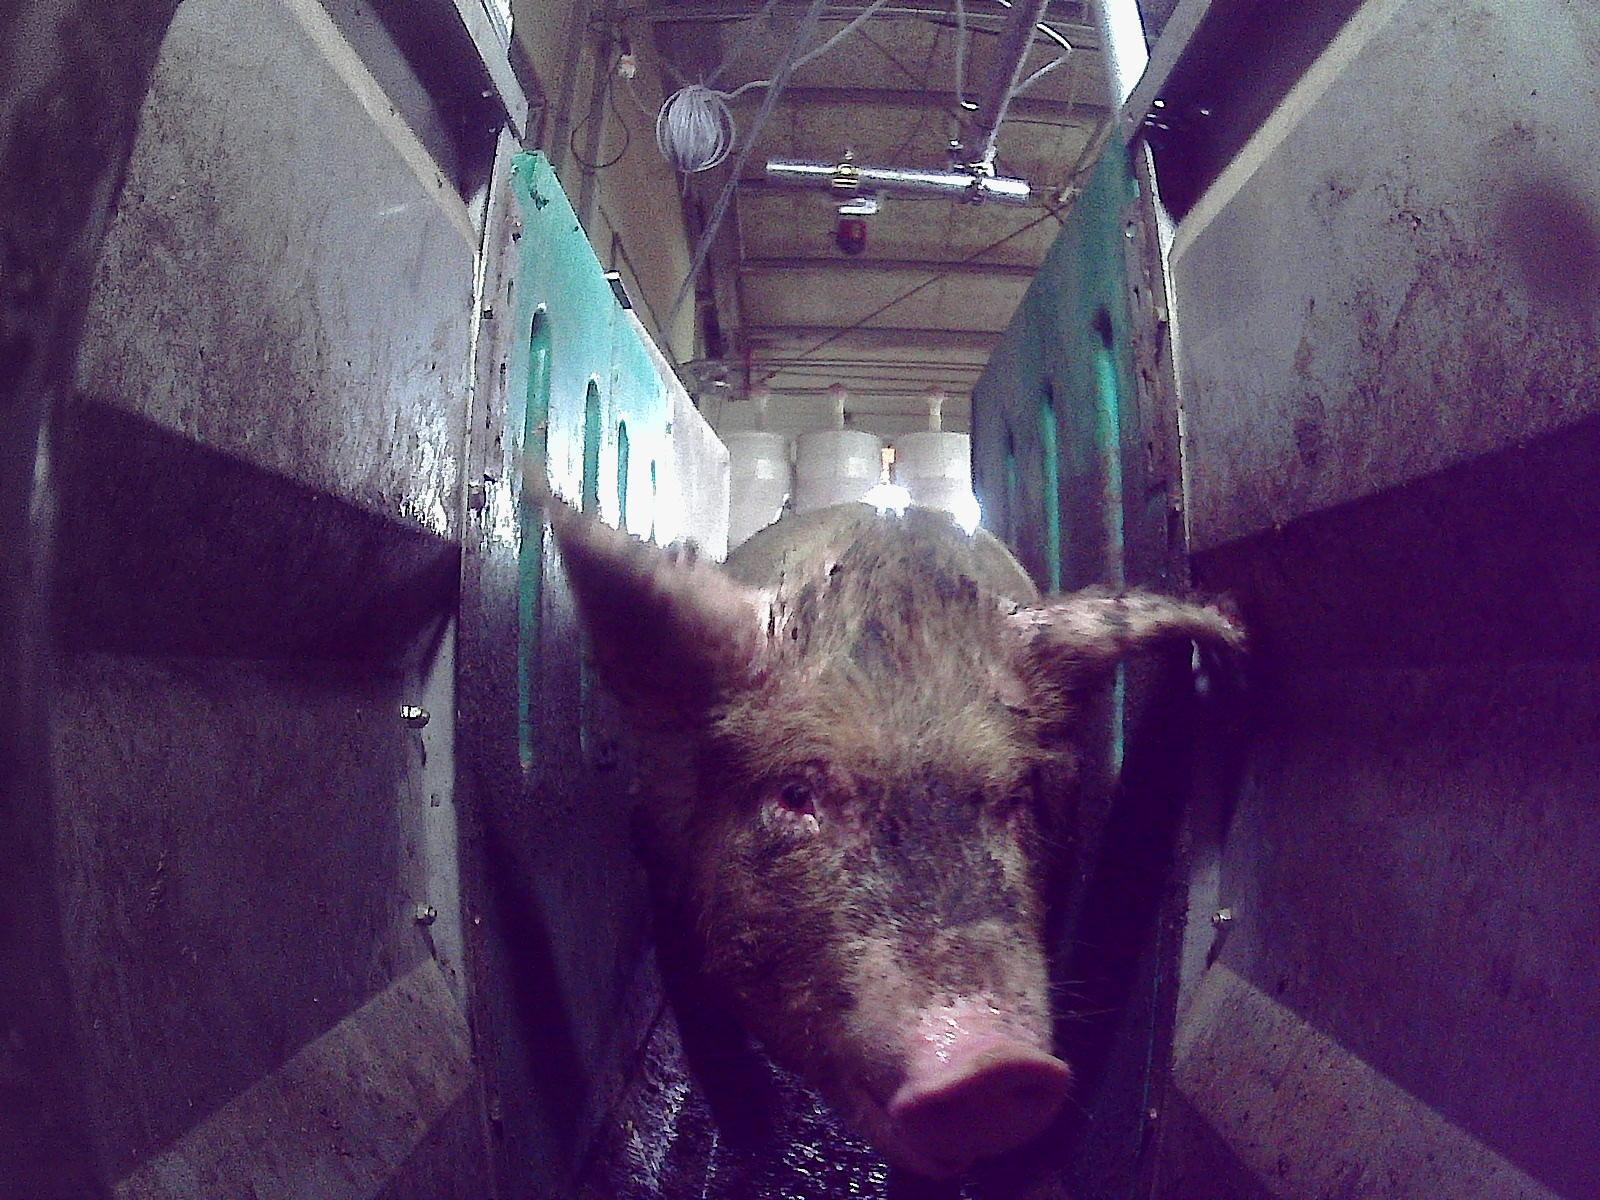Face: (681, 565, 1075, 1176)
